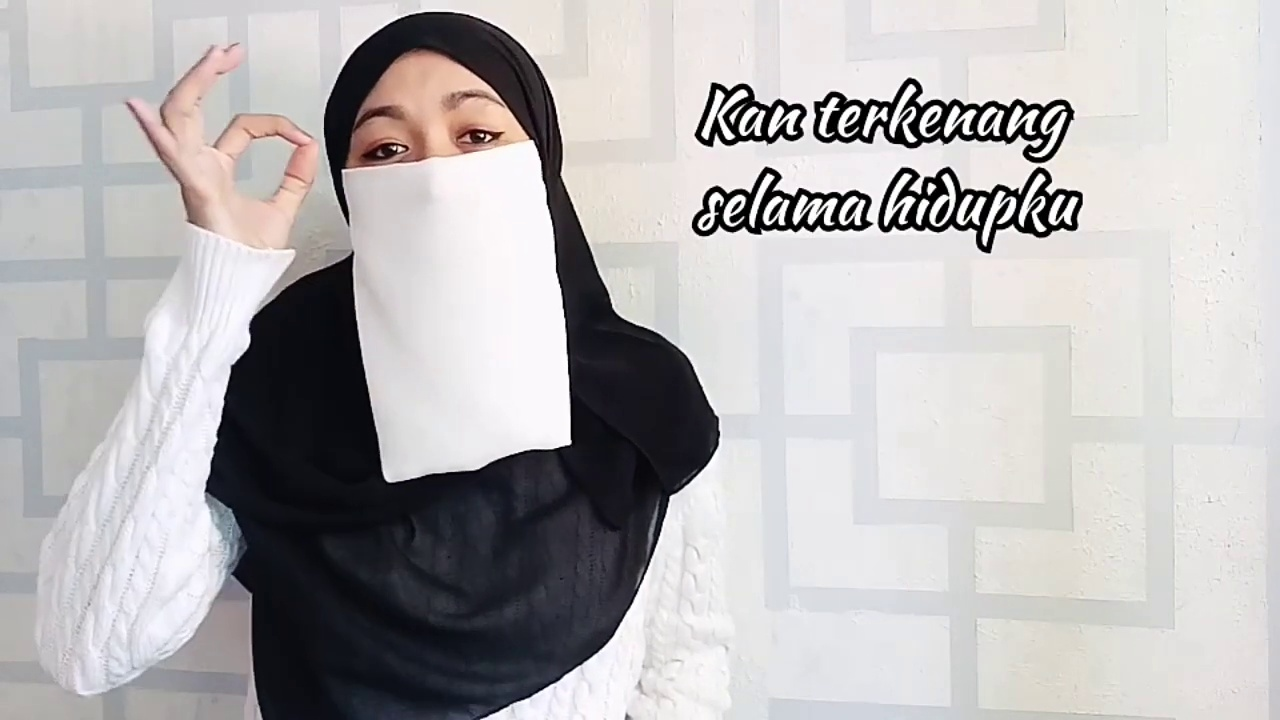KAN TERKENANG: (31, 5, 584, 720)
